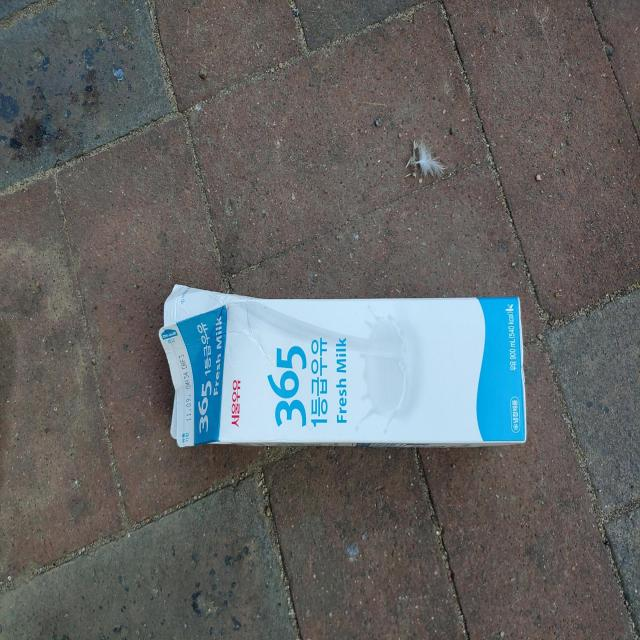paperpack: (159, 285, 527, 447)
